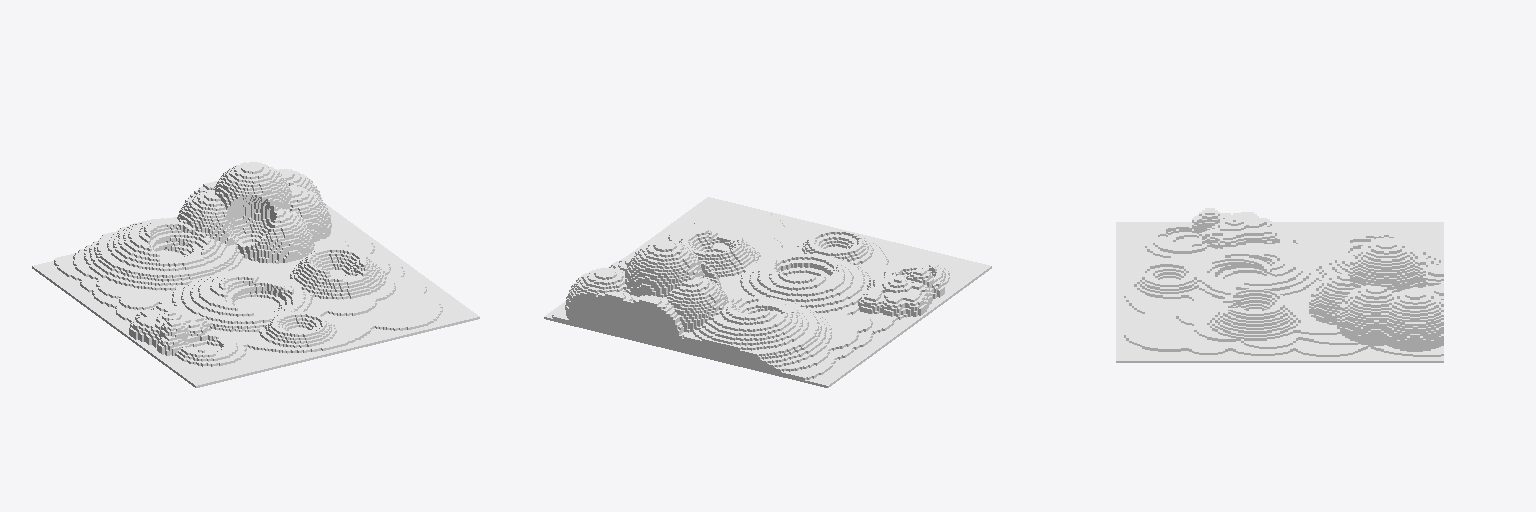
Rendered from LunarBorder1.obj.
3 renders of one model, left to right at view 1: azimuth 30°, elevation 25°; view 2: azimuth 150°, elevation 25°; view 3: azimuth 270°, elevation 25°, orthographic.
Bounding box in the file's own units: 126 × 32 × 126.